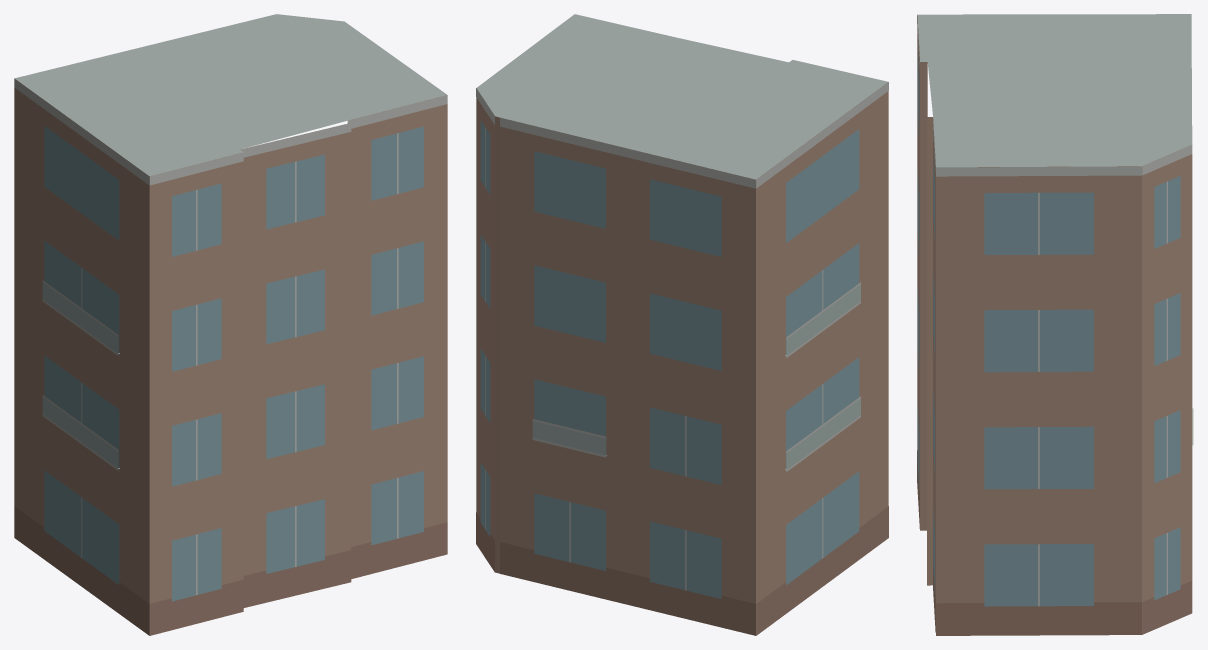
File: survey-upis-33007089.glb
3 renders of one model, left to right at view 1: azimuth 30°, elevation 25°; view 2: azimuth 150°, elevation 25°; view 3: azimuth 270°, elevation 25°, orthographic. The views are drawn at different scales.
Visible parts, largest first — view 1: survey-upis-33007089.tmp; view 2: survey-upis-33007089.tmp; view 3: survey-upis-33007089.tmp.
Boxes of the visible parts, bbox=[...] form: survey-upis-33007089.tmp: bbox=[14, 14, 447, 635]; survey-upis-33007089.tmp: bbox=[476, 14, 888, 635]; survey-upis-33007089.tmp: bbox=[917, 14, 1193, 635].
Bounding box in the file's own units: 8.72 × 12.38 × 6.62.
